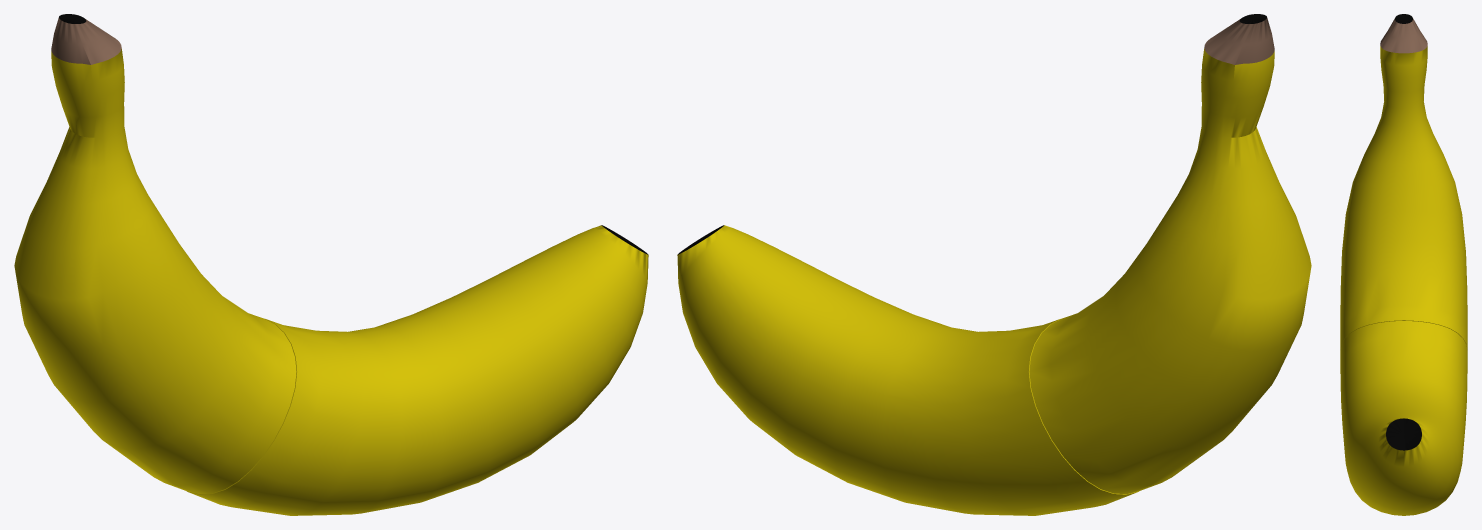
The model's file is Fruit_Banana_Sliced.fbx.
3 renders of one model, left to right at view 1: azimuth 30°, elevation 25°; view 2: azimuth 150°, elevation 25°; view 3: azimuth 270°, elevation 25°, orthographic. The views are drawn at different scales.
Visible parts, largest first — view 1: Bottom, Top; view 2: Bottom, Top; view 3: Top, Bottom.
Boxes of the visible parts, x1,y1,x2,y2 form: Bottom: (187, 225, 648, 515); Top: (14, 14, 296, 493); Bottom: (677, 225, 1138, 515); Top: (1029, 14, 1311, 493); Top: (1340, 14, 1467, 349); Bottom: (1340, 321, 1467, 515).
Bounding box in the file's own units: 263 × 227 × 70.72.
